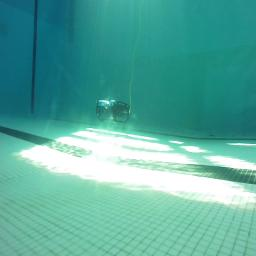front: (96, 99, 130, 127)
